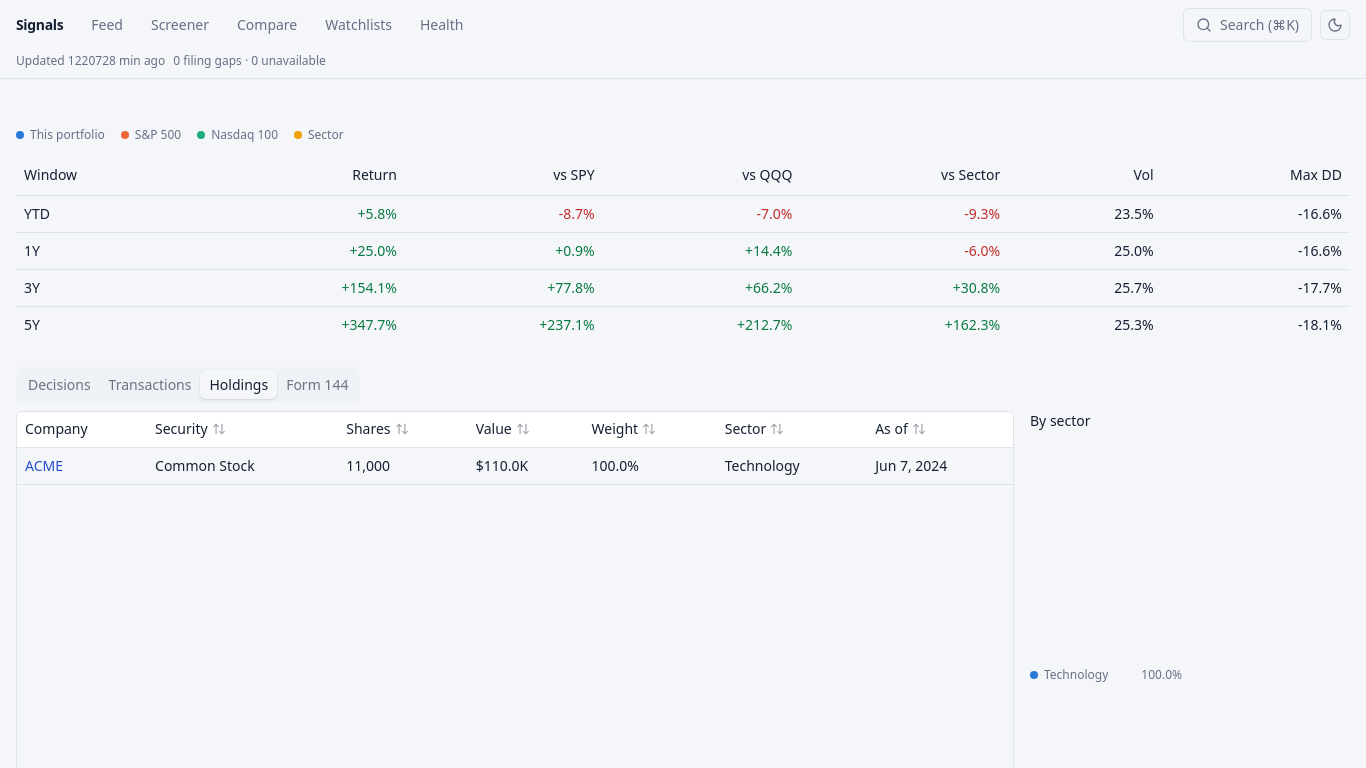
Test: tabs switch via url
(page scrolled)
Expected: the heading "By sector" is shown, left=1030, top=410, right=1090, bottom=430
Step 1. Click the tab "Transactions" → (150, 384), box left=100, top=370, right=200, bottom=399
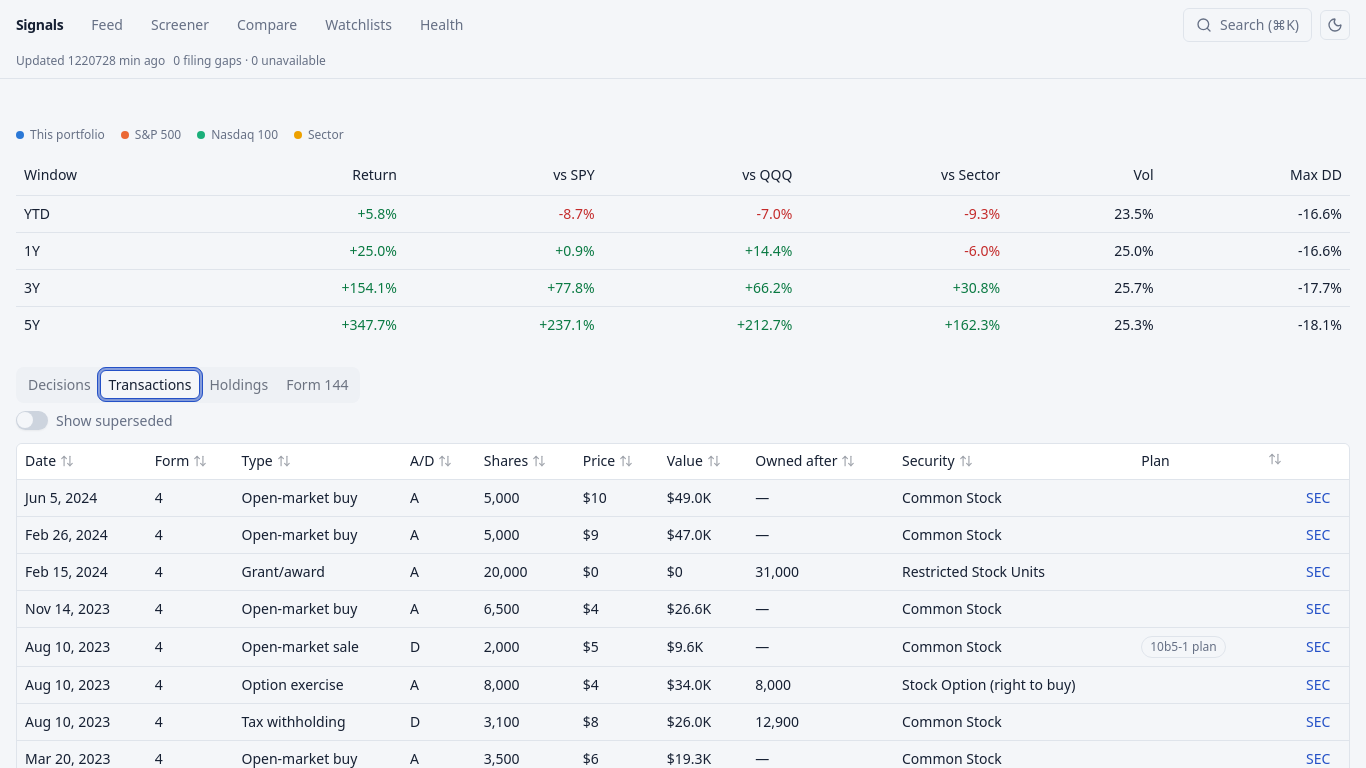
Now the text "Show superseded" is shown, box left=16, top=410, right=172, bottom=430
Step 2. Click the tab "Form 144" → (317, 384), box left=277, top=370, right=357, bottom=399
(page scrolled)
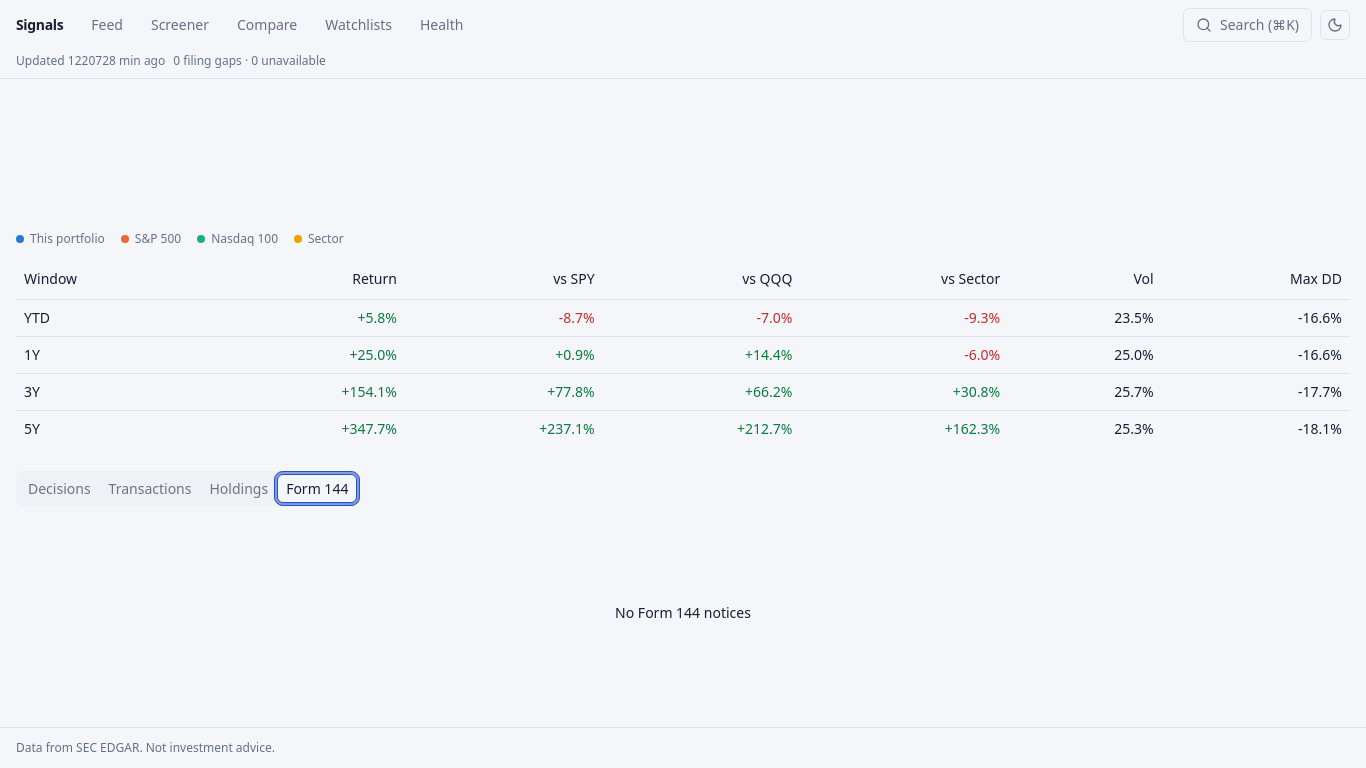
Now the text "No Form 144 notices" is shown, box left=615, top=602, right=751, bottom=622
